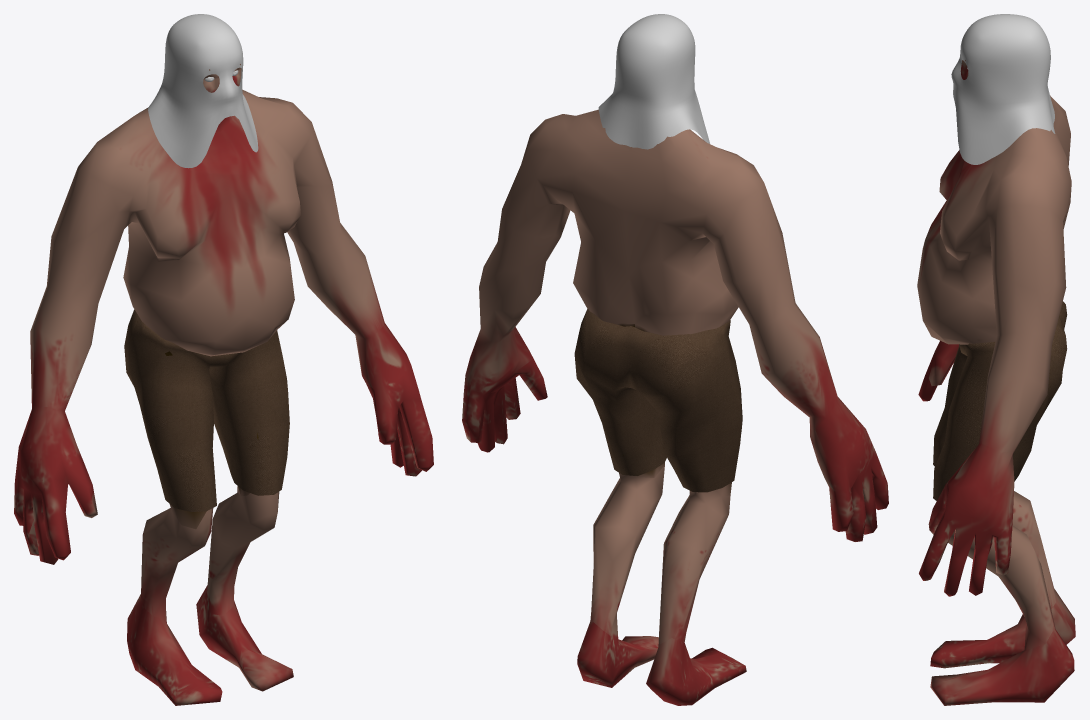
File: Kellek_Mats.fbx
3 renders of one model, left to right at view 1: azimuth 30°, elevation 25°; view 2: azimuth 150°, elevation 25°; view 3: azimuth 270°, elevation 25°, orthographic.
Visible parts, largest first — view 1: Kellek-LP, Hood-and-pants-LP; view 2: Kellek-LP, Hood-and-pants-LP; view 3: Kellek-LP, Hood-and-pants-LP.
Boxes of the visible parts, box(x1,y1,x2,y2) form: Kellek-LP: box(14, 64, 433, 705); Hood-and-pants-LP: box(124, 14, 289, 511); Kellek-LP: box(462, 109, 888, 705); Hood-and-pants-LP: box(574, 14, 742, 492); Kellek-LP: box(917, 60, 1075, 705); Hood-and-pants-LP: box(933, 14, 1067, 500).
Bounding box in the file's own units: 121 × 196 × 42.79.
